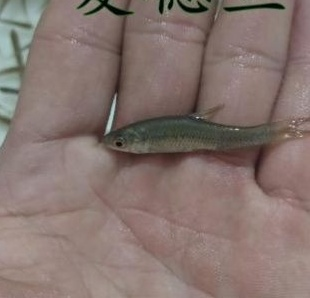fry: (83, 93, 310, 163)
